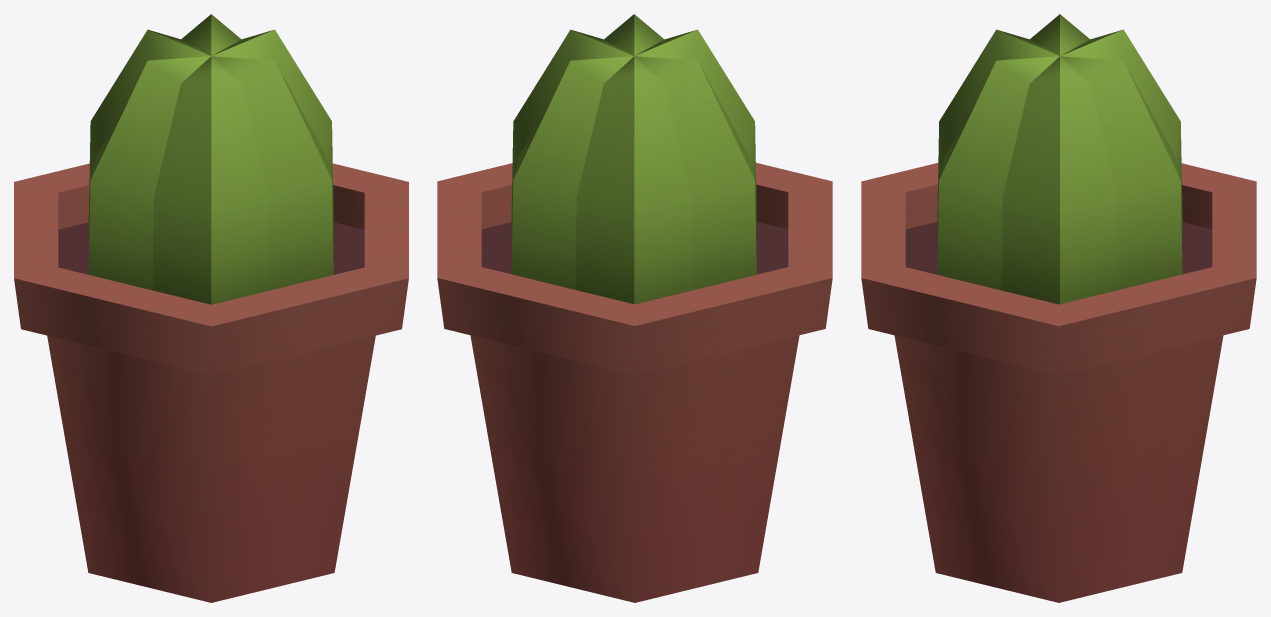
Rendered from SM_Plant_Small_02.fbx.
3 views of the same model, side by side, from view 1: azimuth 30°, elevation 25°; view 2: azimuth 150°, elevation 25°; view 3: azimuth 270°, elevation 25° (orthographic).
Parts seen in each view (by area): view 1: SM_Plant_Small_02; view 2: SM_Plant_Small_02; view 3: SM_Plant_Small_02.
Boxes of the visible parts, left/top/right/bottom form: SM_Plant_Small_02: left=14, top=14, right=408, bottom=602; SM_Plant_Small_02: left=437, top=14, right=832, bottom=602; SM_Plant_Small_02: left=861, top=14, right=1256, bottom=602.
Bounding box in the file's own units: 16.08 × 19.36 × 13.93.
